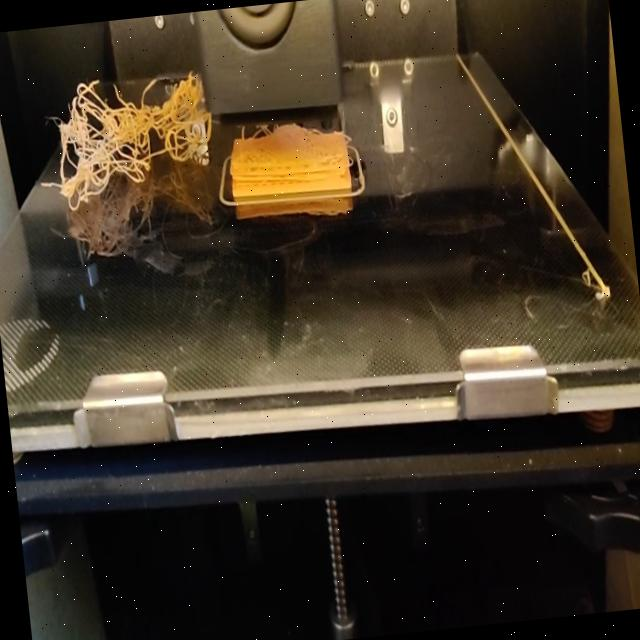spaghetti: (42, 48, 215, 214)
